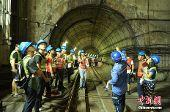helmet: (20, 40, 34, 54), (111, 50, 123, 63), (151, 53, 162, 65), (31, 43, 42, 51), (38, 40, 49, 47), (79, 50, 88, 57), (139, 51, 146, 59), (47, 46, 54, 54), (61, 44, 68, 52), (56, 49, 63, 54), (70, 49, 77, 54)
